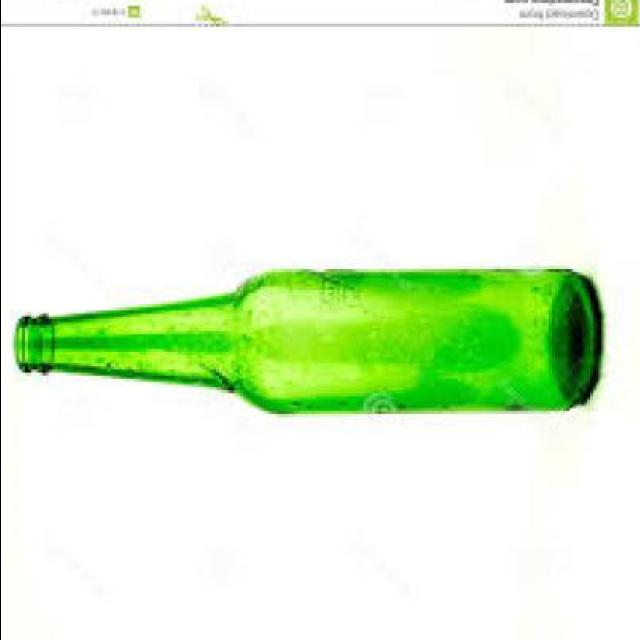kaca: (12, 275, 598, 414)
